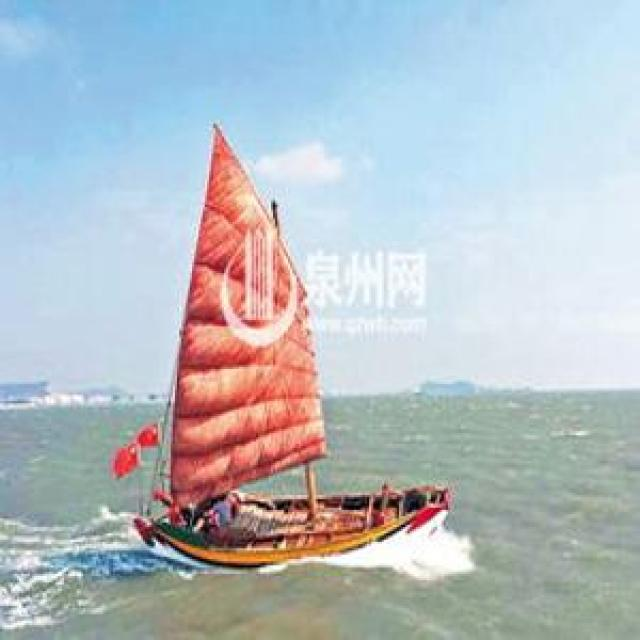sailboat: (127, 122, 460, 571)
